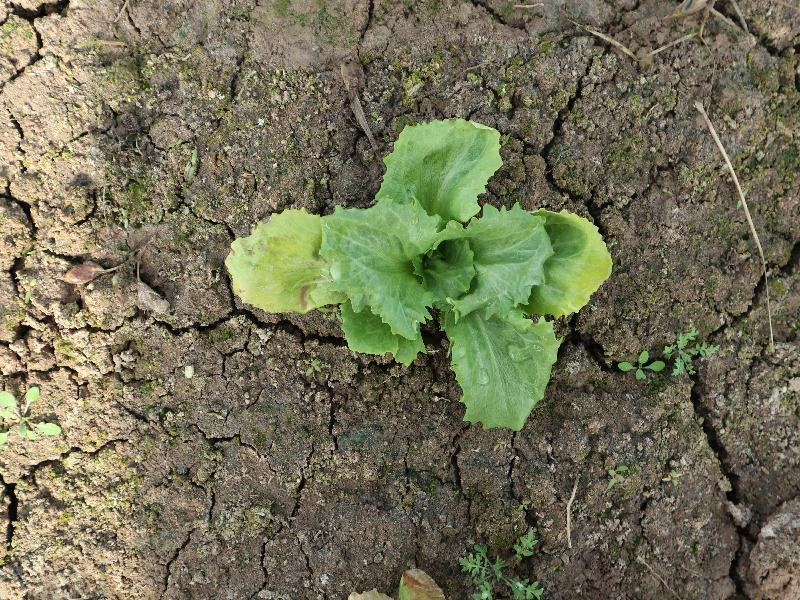lettuce: (227, 116, 612, 429)
